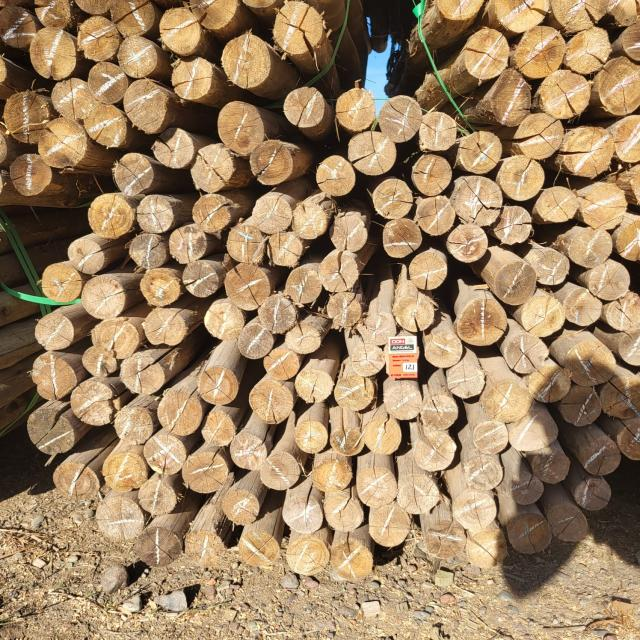package: (29, 89, 631, 580), (5, 0, 348, 204), (431, 1, 640, 248)
